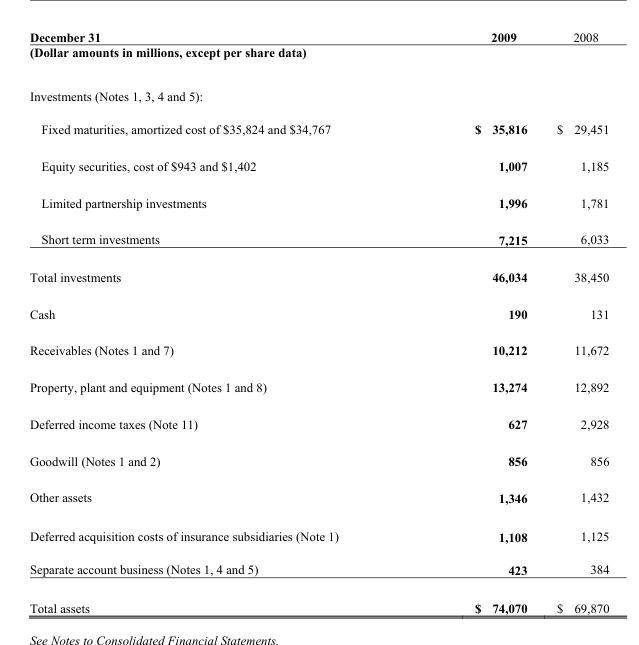table: (28, 29, 608, 614)
table column: (28, 29, 406, 614), (406, 29, 541, 614), (541, 29, 608, 614)
table column header: (28, 29, 608, 44)
table projected row header: (28, 73, 608, 112), (28, 44, 608, 73)
table row: (28, 73, 608, 112), (28, 478, 608, 516), (28, 183, 608, 220), (28, 220, 608, 257), (28, 257, 608, 294), (28, 294, 608, 331), (28, 331, 608, 368), (28, 368, 608, 405), (28, 405, 608, 442), (28, 147, 608, 183), (28, 442, 608, 478), (28, 516, 608, 552), (28, 552, 608, 588), (28, 112, 608, 147), (28, 44, 608, 73), (28, 588, 608, 614), (28, 29, 608, 44)
